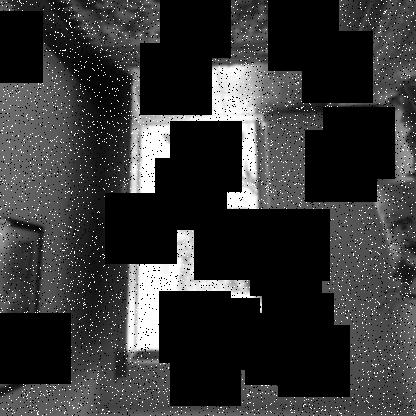Porte: (110, 76, 279, 386)
